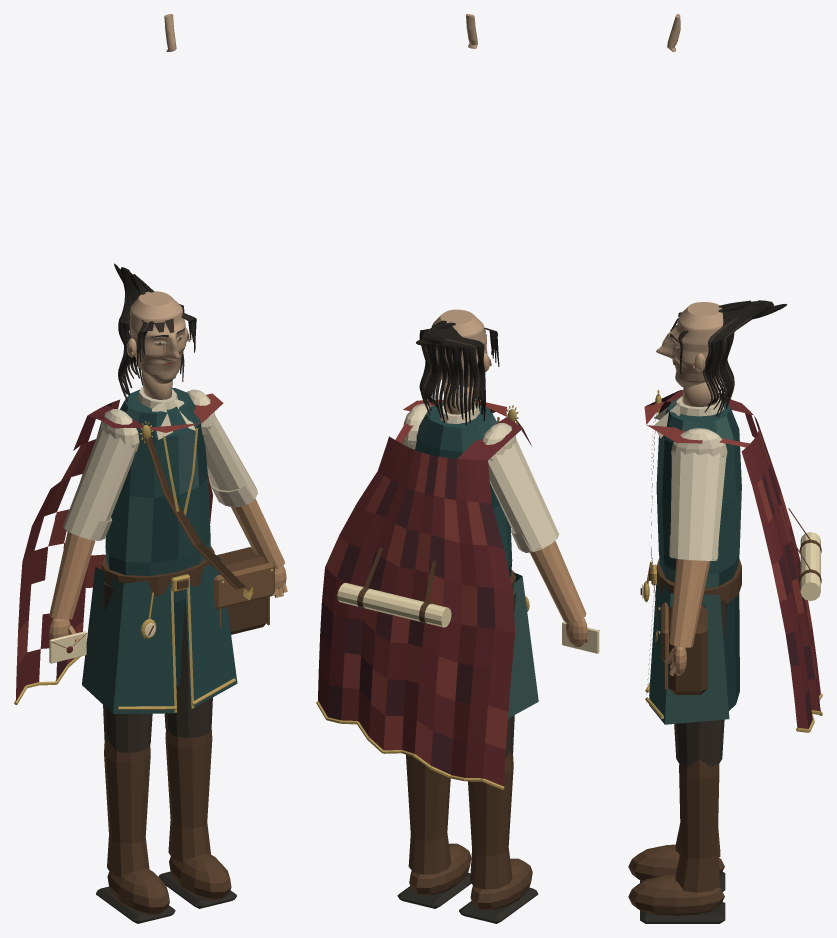
File: courier.glb
3 renders of one model, left to right at view 1: azimuth 30°, elevation 25°; view 2: azimuth 150°, elevation 25°; view 3: azimuth 270°, elevation 25°, orthographic.
Parts seen in each view (by area): view 1: Waistcoat, Split_coat_R, Cloak_folds, Boot_shaft_R, Boot_shaft_L, Split_coat_L, Linen_sleeve_R, Face, Forearm_R, Trouser_thigh_L, Linen_sleeve_L, Boot_toe_L (+14 smaller); view 2: Cloak_folds, Boot_shaft_R, Boot_shaft_L, Linen_sleeve_R, Waistcoat, Split_coat_R, Map_roll, Forearm_R, Boot_toe_L, Boot_toe_R, Face, Boot_sole_R (+2 smaller); view 3: Cloak_folds, Waistcoat, Linen_sleeve_L, Boot_shaft_L, Split_coat_L, Face, Boot_toe_L, Forearm_L, Trouser_thigh_L, Messenger_satchel, Back_coat, Boot_toe_R (+8 smaller).
Boxes of the visible parts, x1,y1,x2,y2 form: Waistcoat: [105, 388, 210, 601]; Split_coat_R: [82, 566, 174, 713]; Cloak_folds: [15, 393, 223, 701]; Boot_shaft_R: [104, 738, 150, 877]; Boot_shaft_L: [165, 726, 212, 862]; Split_coat_L: [185, 554, 237, 709]; Linen_sleeve_R: [63, 426, 137, 540]; Face: [129, 291, 186, 383]; Forearm_R: [49, 531, 95, 619]; Trouser_thigh_L: [164, 599, 212, 738]; Linen_sleeve_L: [203, 415, 257, 506]; Boot_toe_L: [169, 853, 231, 900]; Cloak_folds: [318, 399, 531, 786]; Boot_shaft_R: [468, 751, 513, 889]; Boot_shaft_L: [406, 754, 451, 874]; Linen_sleeve_R: [488, 439, 559, 552]; Waistcoat: [415, 402, 512, 577]; Split_coat_R: [508, 572, 538, 718]; Map_roll: [337, 582, 451, 627]; Forearm_R: [530, 540, 586, 622]; Boot_toe_L: [409, 843, 471, 895]; Boot_toe_R: [470, 858, 532, 910]; Face: [432, 309, 487, 387]; Boot_sole_R: [459, 887, 538, 923]; Cloak_folds: [644, 390, 820, 729]; Waistcoat: [656, 396, 741, 588]; Linen_sleeve_L: [670, 450, 726, 560]; Boot_shaft_L: [675, 759, 720, 892]; Split_coat_L: [649, 572, 729, 724]; Face: [656, 302, 723, 387]; Boot_toe_L: [628, 874, 724, 915]; Forearm_L: [669, 559, 710, 647]; Trouser_thigh_L: [674, 599, 727, 767]; Messenger_satchel: [668, 604, 707, 694]; Back_coat: [722, 593, 739, 710]; Boot_toe_R: [628, 844, 724, 881].
Bounding box in the file's own units: 0.7395 × 2.59 × 0.5149.
